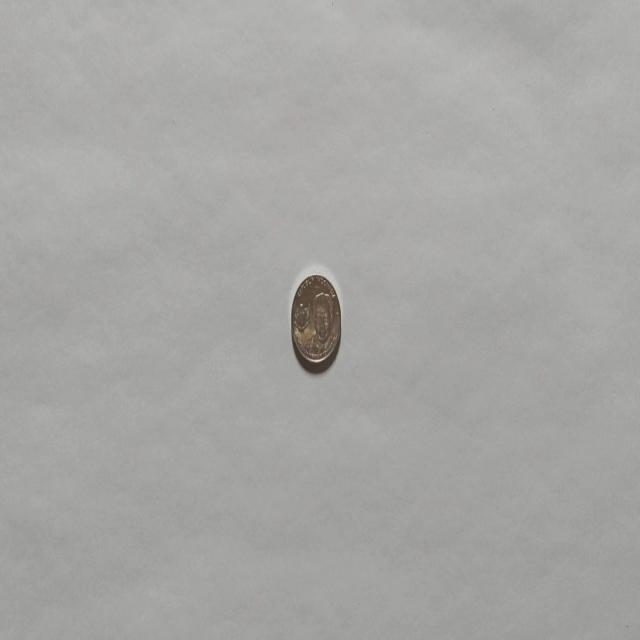seratus rupiah: (290, 272, 342, 370)
